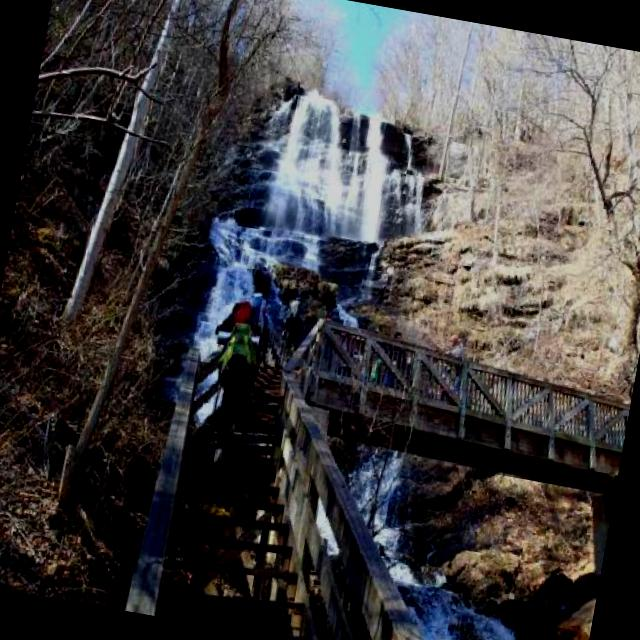Person: (198, 318, 264, 468)
